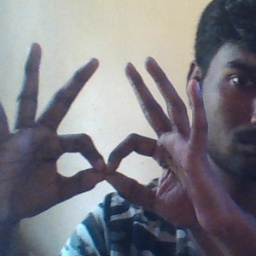B: (41, 101, 177, 207)
